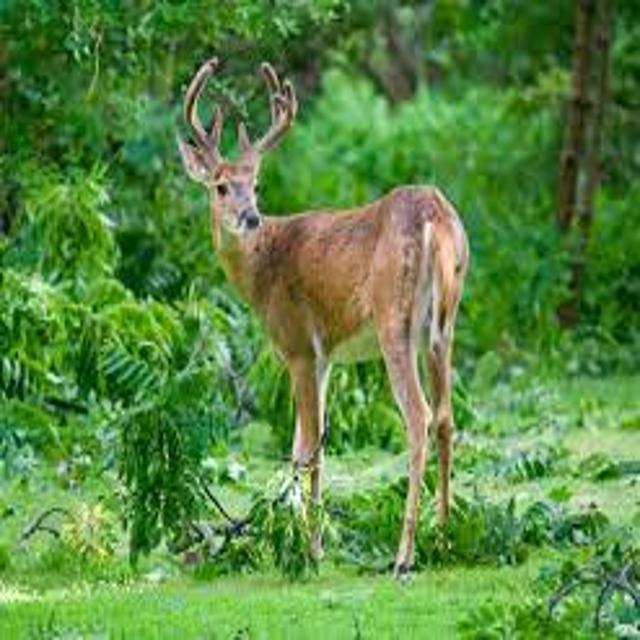deer: (149, 42, 497, 595)
